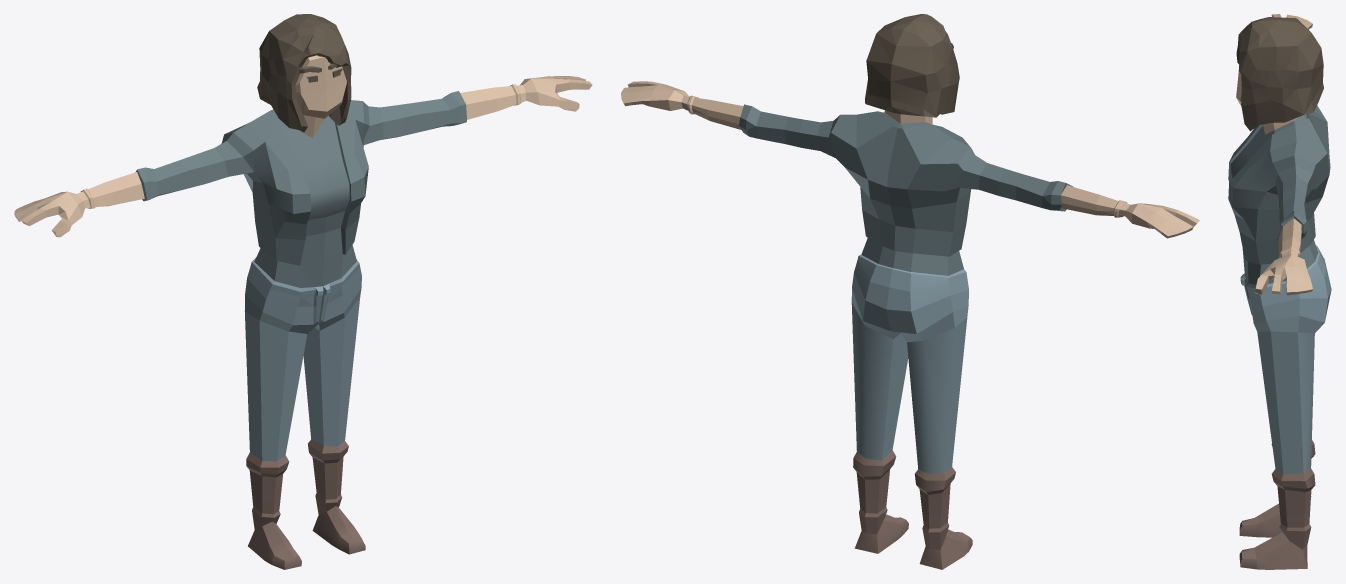
The model's file is adult_2.fbx.
3 views of the same model, side by side, from view 1: azimuth 30°, elevation 25°; view 2: azimuth 150°, elevation 25°; view 3: azimuth 270°, elevation 25° (orthographic).
Visible parts, largest first — view 1: polySurface82; view 2: polySurface82; view 3: polySurface82.
Boxes of the visible parts, x1,y1,x2,y2 form: polySurface82: [14, 14, 592, 569]; polySurface82: [621, 14, 1199, 569]; polySurface82: [1228, 14, 1331, 569].
Bounding box in the file's own units: 14.53 × 2.28 × 12.87.
